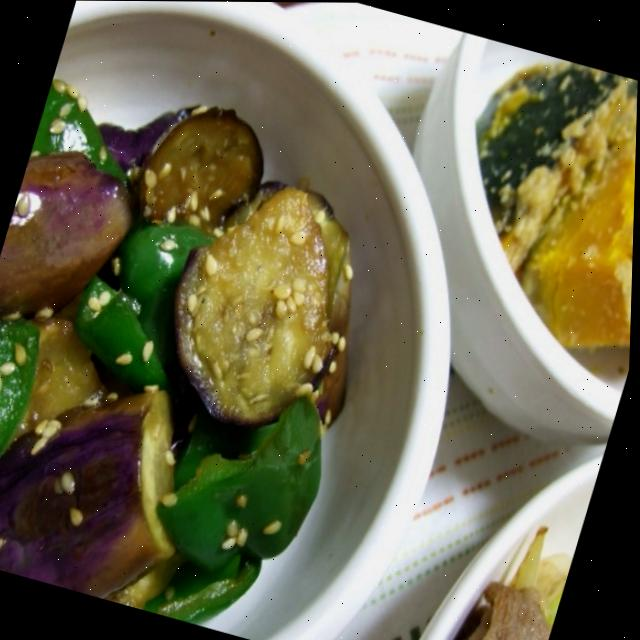鸡蛋料理: (0, 22, 453, 640)
